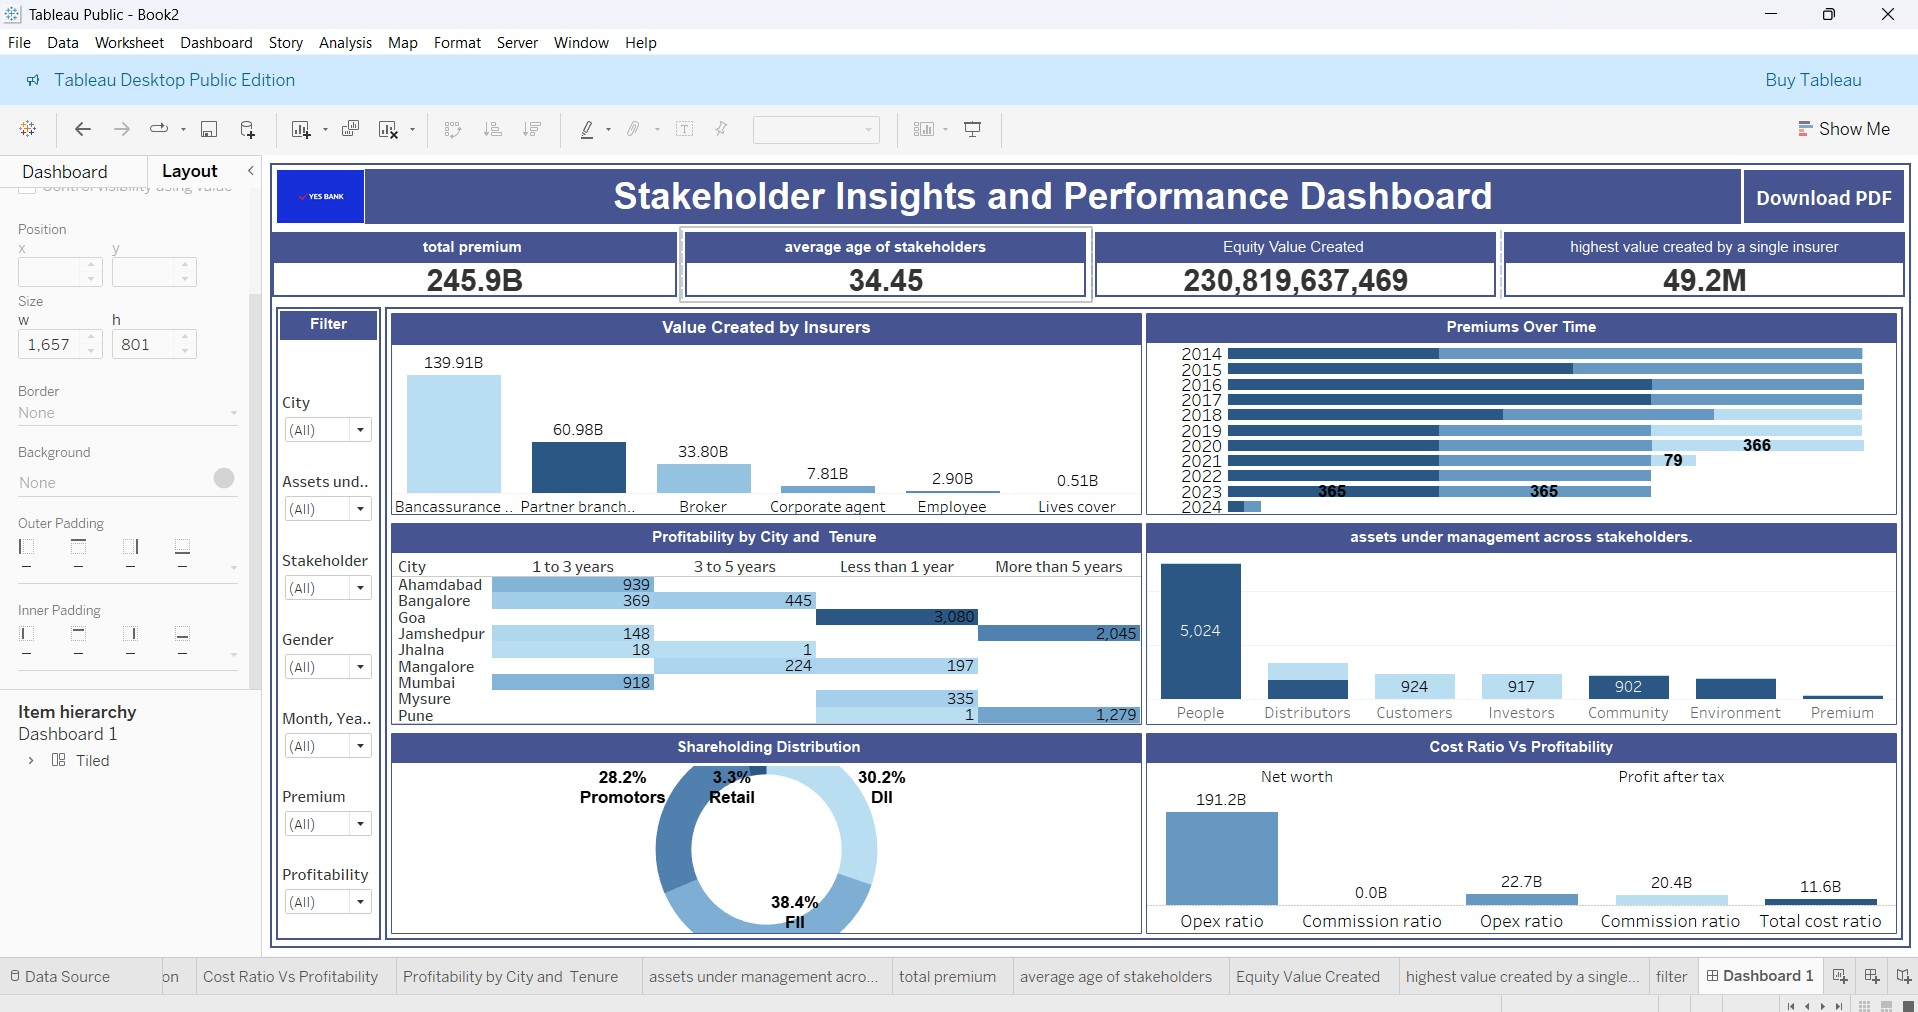

The page's visual inventory and layout, read from the dashboard file:
{"tool":"tableau","page":{"name":"Stakeholder Insights and Performance Dashboard ","canvas":[1000,1000],"units":"permille","ordinal":0},"visuals":[{"type":"image","param":"Image/1024px-Yes_Bank_Logo-01.png","box":[8.4,17.5,53.7,68.7]},{"type":"text","box":[62.2,17.5,830.4,68.7]},{"type":"dashboard-object","box":[892.6,17.5,99,68.7]},{"type":"worksheet","title":"total premium ","mark":"Automatic","box":[6,91.1,247,91.1]},{"type":"worksheet","title":"average age of stakeholders","mark":"Automatic","box":[253,91.1,247,91.1]},{"type":"worksheet","title":"Equity Value Created ","mark":"Automatic","box":[500,91.1,247,91.1]},{"type":"worksheet","title":"highest value created by a single insurer","mark":"Automatic","box":[747,91.1,247,91.1]},{"type":"worksheet","title":"filter","mark":"Automatic","box":[9.7,192.3,61,98.6]},{"type":"worksheet","title":"Value Created by Insurers","mark":"Automatic","rows":["Value Created"],"cols":["Insurer"],"box":[76.6,194.8,455.7,257.2]},{"type":"worksheet","title":"Premiums Over Time","mark":"Bar","rows":["Date"],"cols":["Premium 1"],"box":[532.3,194.8,455.6,257.2]},{"type":"filter","title":"filter","param":"[federated.0a23sy110ofm0u10f8l4b01drz0i].[none:City:nk]","box":[9.7,290.9,61,98.6]},{"type":"filter","title":"filter","param":"[federated.0a23sy110ofm0u10f8l4b01drz0i].[none:Assets under management:nk]","box":[9.7,389.5,61,98.6]},{"type":"worksheet","title":"Profitability by City and  Tenure ","mark":"Square","rows":["City"],"cols":["Policy tenuer"],"box":[76.6,456.9,455.7,257.2]},{"type":"worksheet","title":"assets under management across stakeholders.","mark":"Automatic","rows":["Assets under management"],"cols":["Stakeholder"],"box":[532.3,456.9,455.6,257.2]},{"type":"filter","title":"filter","param":"[federated.0a23sy110ofm0u10f8l4b01drz0i].[none:Stakeholder:nk]","box":[9.7,488.1,61,98.6]},{"type":"filter","title":"filter","param":"[federated.0a23sy110ofm0u10f8l4b01drz0i].[none:Gender:nk]","box":[9.7,586.8,61,98.6]},{"type":"filter","title":"filter","param":"[federated.0a23sy110ofm0u10f8l4b01drz0i].[my:Date:ok]","box":[9.7,685.4,61,97.4]},{"type":"worksheet","title":" Shareholding Distribution","mark":"Pie","rows":["Calculation_616711733051187200","Calculation_616711733051187200"],"box":[76.6,719.1,455.7,255.9]},{"type":"worksheet","title":"Cost Ratio Vs Profitability","mark":"Automatic","rows":["Value Created"],"cols":["Profitability","Cost ratio"],"box":[532.3,719.1,455.6,255.9]},{"type":"filter","title":"filter","param":"[federated.0a23sy110ofm0u10f8l4b01drz0i].[none:Premium 1:nk]","box":[9.7,782.8,61,97.4]},{"type":"filter","title":"filter","param":"[federated.0a23sy110ofm0u10f8l4b01drz0i].[none:Profitability:nk]","box":[9.7,880.1,61,97.4]}]}

Visuals, with their boxes on the dashboard's canvas, which has no fixed pixel size, in thousandths of its width and height (x1, y1, x2, y2). These are canvas units, not pixel positions in the 1918x1012 screenshot, which may show the page scaled, cropped or inside an application window:
image: crop(8, 18, 62, 86)
text: crop(62, 18, 893, 86)
dashboard-object: crop(893, 18, 992, 86)
"total premium " worksheet: crop(6, 91, 253, 182)
"average age of stakeholders" worksheet: crop(253, 91, 500, 182)
"Equity Value Created " worksheet: crop(500, 91, 747, 182)
"highest value created by a single insurer" worksheet: crop(747, 91, 994, 182)
"filter" worksheet: crop(10, 192, 71, 291)
"Value Created by Insurers" worksheet: crop(77, 195, 532, 452)
"Premiums Over Time" worksheet (Bar marks): crop(532, 195, 988, 452)
"filter" filter: crop(10, 291, 71, 390)
"filter" filter: crop(10, 390, 71, 488)
"Profitability by City and  Tenure " worksheet (Square marks): crop(77, 457, 532, 714)
"assets under management across stakeholders." worksheet: crop(532, 457, 988, 714)
"filter" filter: crop(10, 488, 71, 587)
"filter" filter: crop(10, 587, 71, 685)
"filter" filter: crop(10, 685, 71, 783)
" Shareholding Distribution" worksheet (Pie marks): crop(77, 719, 532, 975)
"Cost Ratio Vs Profitability" worksheet: crop(532, 719, 988, 975)
"filter" filter: crop(10, 783, 71, 880)
"filter" filter: crop(10, 880, 71, 978)
